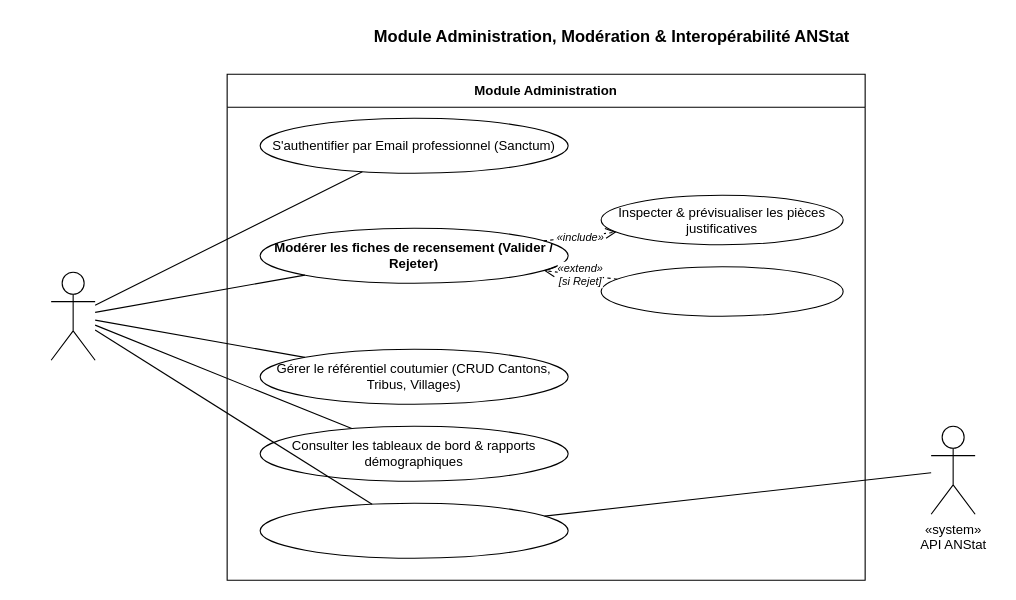
The diagram is 1016 pixels wide and 600 high, and some of its shapes have lost their labels. Here are the shapes that lost their labels. From the top down, the centre of each, then its label:
the point at 721,291: Saisir un motif d'explication obligatoire
the point at 72,315: Administrateur (Email + Sanctum)
the point at 413,530: Importer les données ANStat via CLI (php artisan import:anstat)
